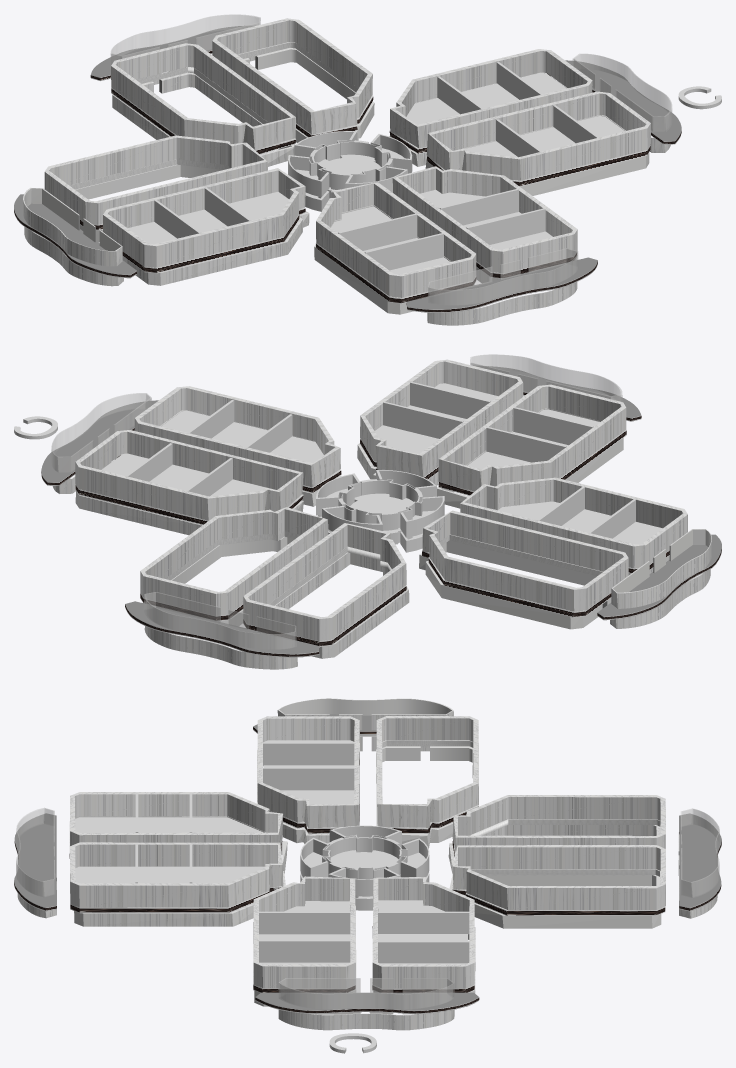
The model's file is exp_simple.FBX.
3 renders of one model, top to bottom at view 1: azimuth 30°, elevation 25°; view 2: azimuth 150°, elevation 25°; view 3: azimuth 270°, elevation 25°, orthographic.
Parts seen in each view (by area): view 1: floor_l_1_tagwall, floor_r_004_tagwall, floor_r_006_tagwall, floor_l_007_tagwall, floor_r_003_tagwall, floor_l_004_tagwall, floor_l_010_tagwall, floor_r_1_tagwall, C_OFFICE_BOTTOM006_tagofficewall, bottom001, C_OFFICE_BOTTOM007_tagofficewall, C_OFFICE_BOTTOM009_tagofficewall (+40 smaller); view 2: floor_r_1_tagwall, floor_l_007_tagwall, floor_l_010_tagwall, floor_r_006_tagwall, floor_l_004_tagwall, floor_r_004_tagwall, floor_l_1_tagwall, floor_r_003_tagwall, C_OFFICE_BOTTOM009_tagofficewall, floor_l_008_taglv1wall, bottom003, C_OFFICE_BOTTOM007_tagofficewall (+37 smaller); view 3: floor_r_003_tagwall, floor_l_010_tagwall, floor_l_004_tagwall, floor_r_006_tagwall, floor_l_007_tagwall, floor_r_004_tagwall, floor_l_1_tagwall, floor_r_1_tagwall, C_OFFICE_BOTTOM004_tagofficewall, floor_l_011_taglv1wall, bottom, bottom001 (+30 smaller).
Part boxes in pixels (left/top/right/bottom): floor_l_1_tagwall: left=426, top=91, right=650, bottom=180; floor_r_004_tagwall: left=103, top=168, right=305, bottom=267; floor_r_006_tagwall: left=111, top=43, right=295, bottom=149; floor_l_007_tagwall: left=44, top=135, right=267, bottom=224; floor_r_003_tagwall: left=392, top=166, right=577, bottom=273; floor_l_004_tagwall: left=316, top=182, right=476, bottom=297; floor_l_010_tagwall: left=212, top=18, right=372, bottom=134; floor_r_1_tagwall: left=390, top=49, right=592, bottom=148; C_OFFICE_BOTTOM006_tagofficewall: left=428, top=248, right=578, bottom=305; bottom001: left=406, top=257, right=597, bottom=312; C_OFFICE_BOTTOM007_tagofficewall: left=23, top=187, right=122, bottom=266; C_OFFICE_BOTTOM009_tagofficewall: left=110, top=14, right=260, bottom=65; floor_r_1_tagwall: left=75, top=430, right=303, bottom=520; floor_l_007_tagwall: left=422, top=510, right=628, bottom=611; floor_l_010_tagwall: left=140, top=507, right=328, bottom=615; floor_r_006_tagwall: left=243, top=523, right=406, bottom=641; floor_l_004_tagwall: left=438, top=384, right=626, bottom=491; floor_r_004_tagwall: left=460, top=477, right=687, bottom=568; floor_l_1_tagwall: left=134, top=386, right=340, bottom=487; floor_r_003_tagwall: left=360, top=359, right=523, bottom=477; C_OFFICE_BOTTOM009_tagofficewall: left=143, top=592, right=296, bottom=649; floor_l_008_taglv1wall: left=419, top=540, right=611, bottom=629; bottom003: left=125, top=601, right=319, bottom=657; C_OFFICE_BOTTOM007_tagofficewall: left=611, top=529, right=711, bottom=608; floor_r_003_tagwall: left=70, top=842, right=283, bottom=907; floor_l_010_tagwall: left=452, top=845, right=665, bottom=910; floor_l_004_tagwall: left=70, top=792, right=283, bottom=848; floor_r_006_tagwall: left=452, top=795, right=665, bottom=852; floor_l_007_tagwall: left=376, top=716, right=478, bottom=827; floor_r_004_tagwall: left=257, top=716, right=359, bottom=828; floor_l_1_tagwall: left=253, top=876, right=355, bottom=988; floor_r_1_tagwall: left=372, top=877, right=474, bottom=988; C_OFFICE_BOTTOM004_tagofficewall: left=278, top=978, right=454, bottom=1009; floor_l_011_taglv1wall: left=449, top=874, right=661, bottom=928; bottom: left=255, top=992, right=479, bottom=1014; bottom001: left=14, top=813, right=56, bottom=911.
Bounding box in the file's own units: 1091 × 65.54 × 992.
Materials: 7 (4 with a texture image).
